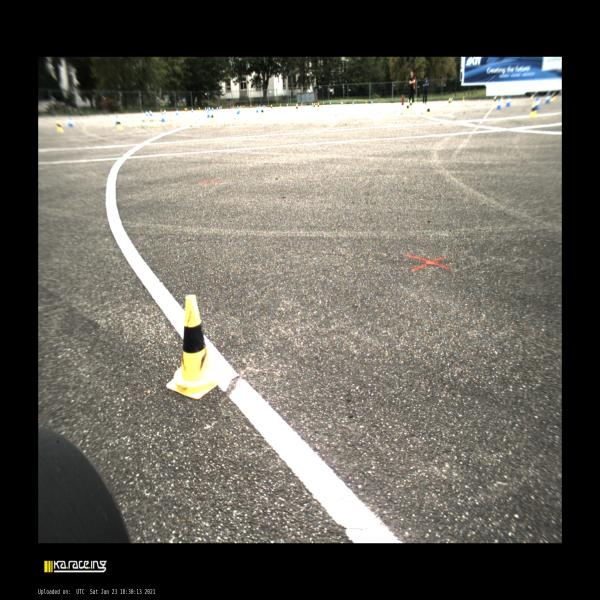blue_cone: (496, 98, 501, 110), (505, 96, 510, 107), (535, 97, 539, 110), (545, 94, 550, 104), (68, 117, 72, 127), (115, 115, 119, 125), (161, 113, 165, 122), (206, 110, 210, 118), (236, 108, 240, 114), (256, 105, 258, 113), (146, 110, 148, 116), (150, 110, 152, 116), (176, 110, 178, 115), (164, 109, 166, 114), (184, 107, 186, 112), (216, 107, 218, 111), (212, 107, 214, 111), (191, 109, 193, 112), (209, 106, 210, 111), (205, 107, 206, 111)
yellow_cone: (166, 294, 220, 400), (529, 102, 537, 118), (56, 120, 64, 132), (117, 120, 123, 130), (426, 104, 430, 117), (210, 112, 215, 122), (406, 102, 410, 113), (142, 116, 146, 126), (447, 98, 451, 108), (260, 107, 264, 116), (317, 102, 320, 110), (313, 103, 316, 110), (410, 99, 412, 109), (296, 103, 298, 112), (462, 96, 465, 102), (494, 96, 496, 105), (270, 104, 272, 110), (198, 107, 200, 112), (300, 102, 302, 106), (186, 107, 187, 112)
